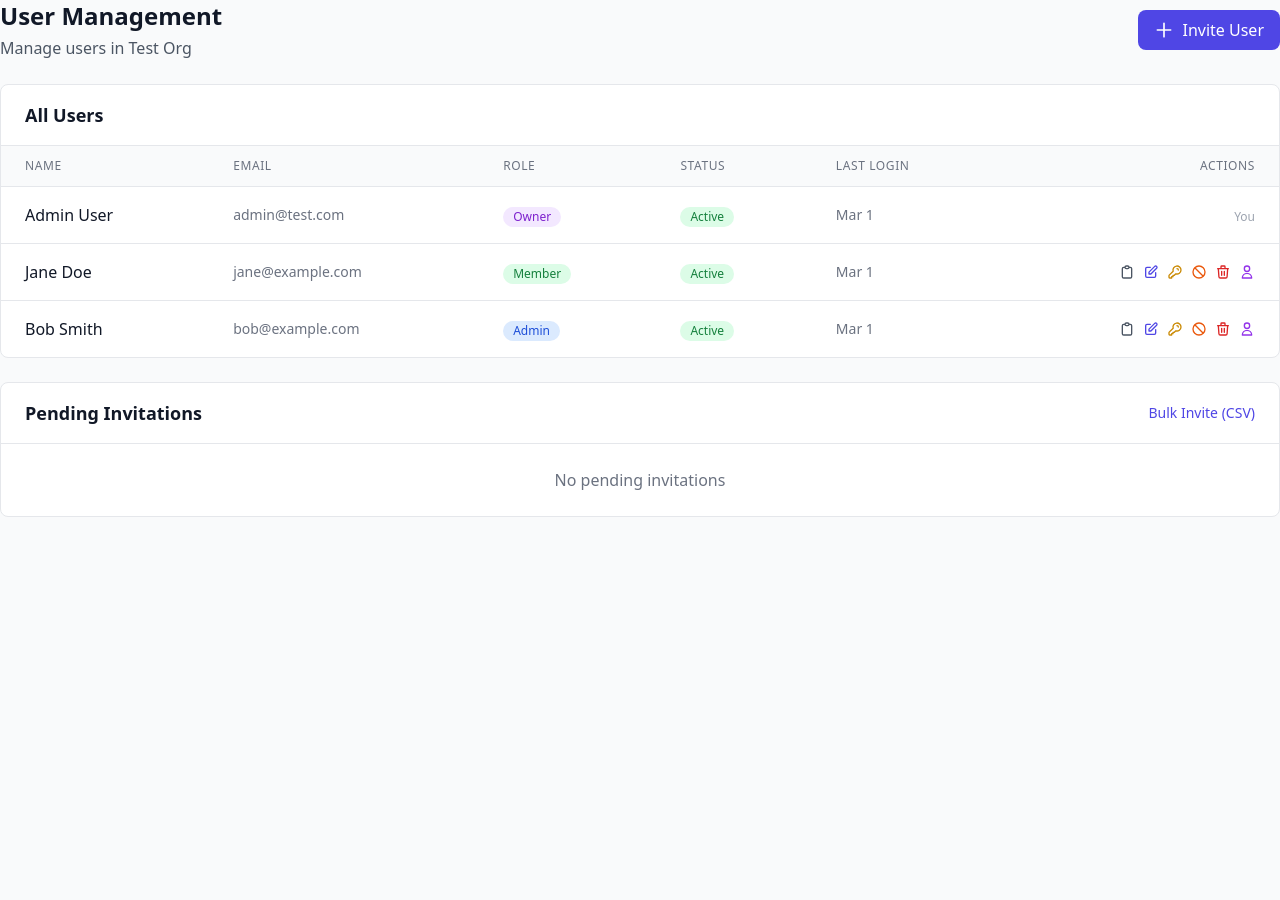
UserManagement page › Invite User button and modal › cancel closes the modal
Step 1. Click the button "Invite User" → {"x": 1209, "y": 30}, box x1=1138 y1=10 x2=1279 y2=50
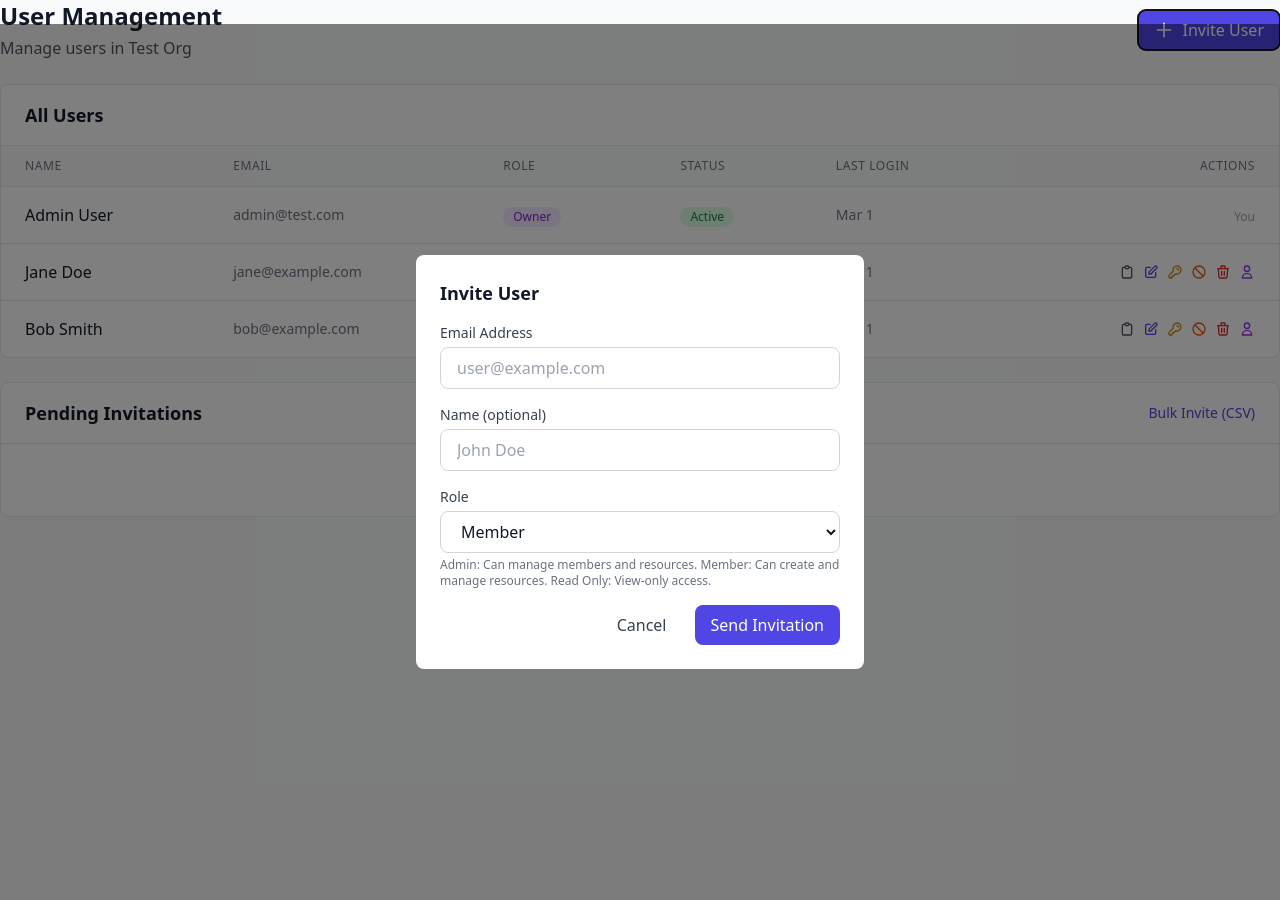
Expected: the field labelled "Email Address" is shown, x1=440 y1=347 x2=840 y2=389
Step 2. Click the button "Cancel" → {"x": 642, "y": 625}, box x1=601 y1=605 x2=682 y2=645
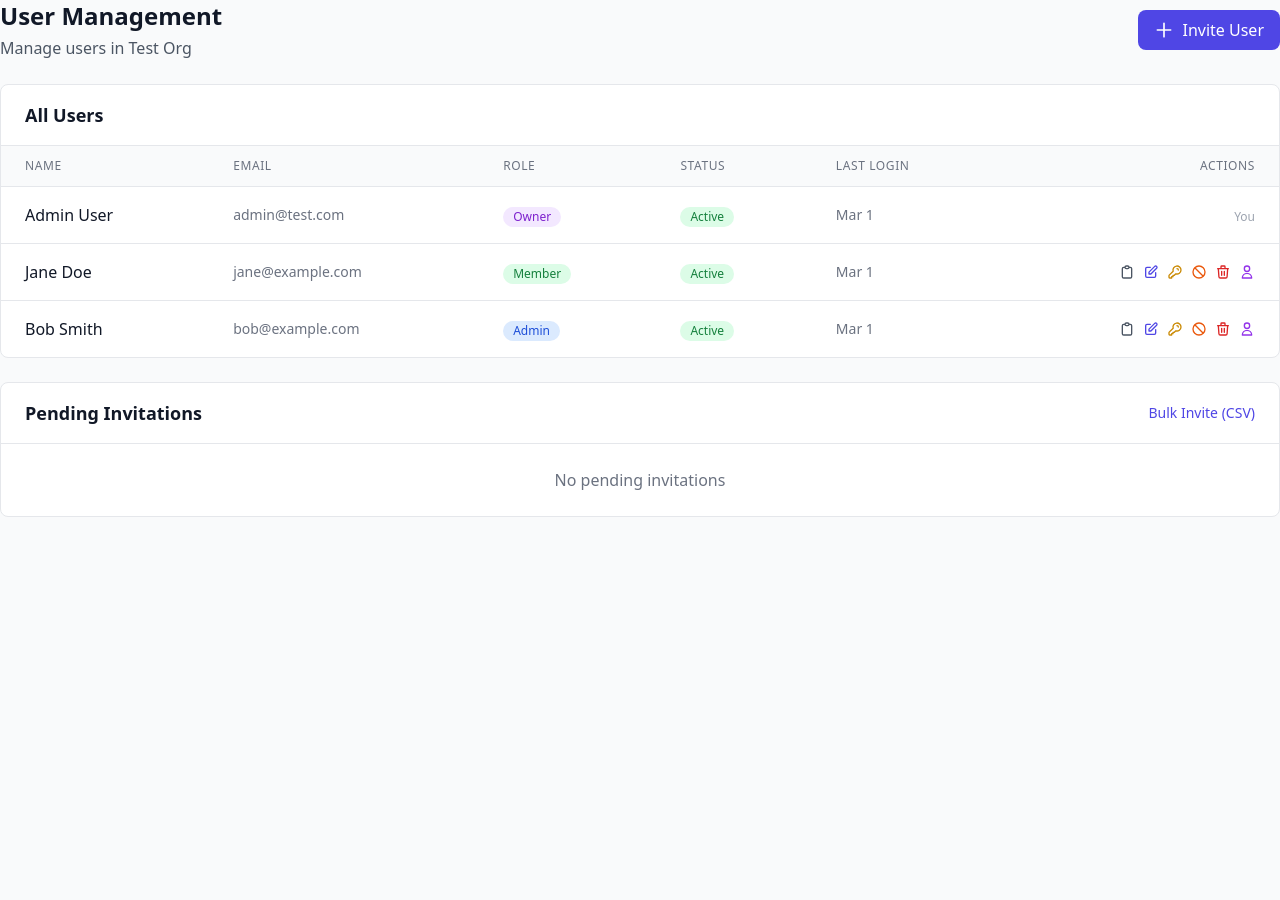
Expected: the label labelled "Email Address" is gone
